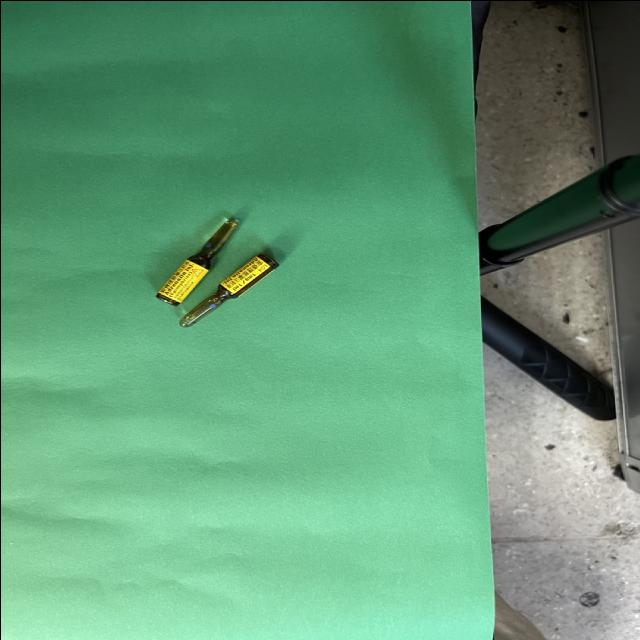Ampoules: (179, 252, 278, 326), (156, 218, 237, 305)
